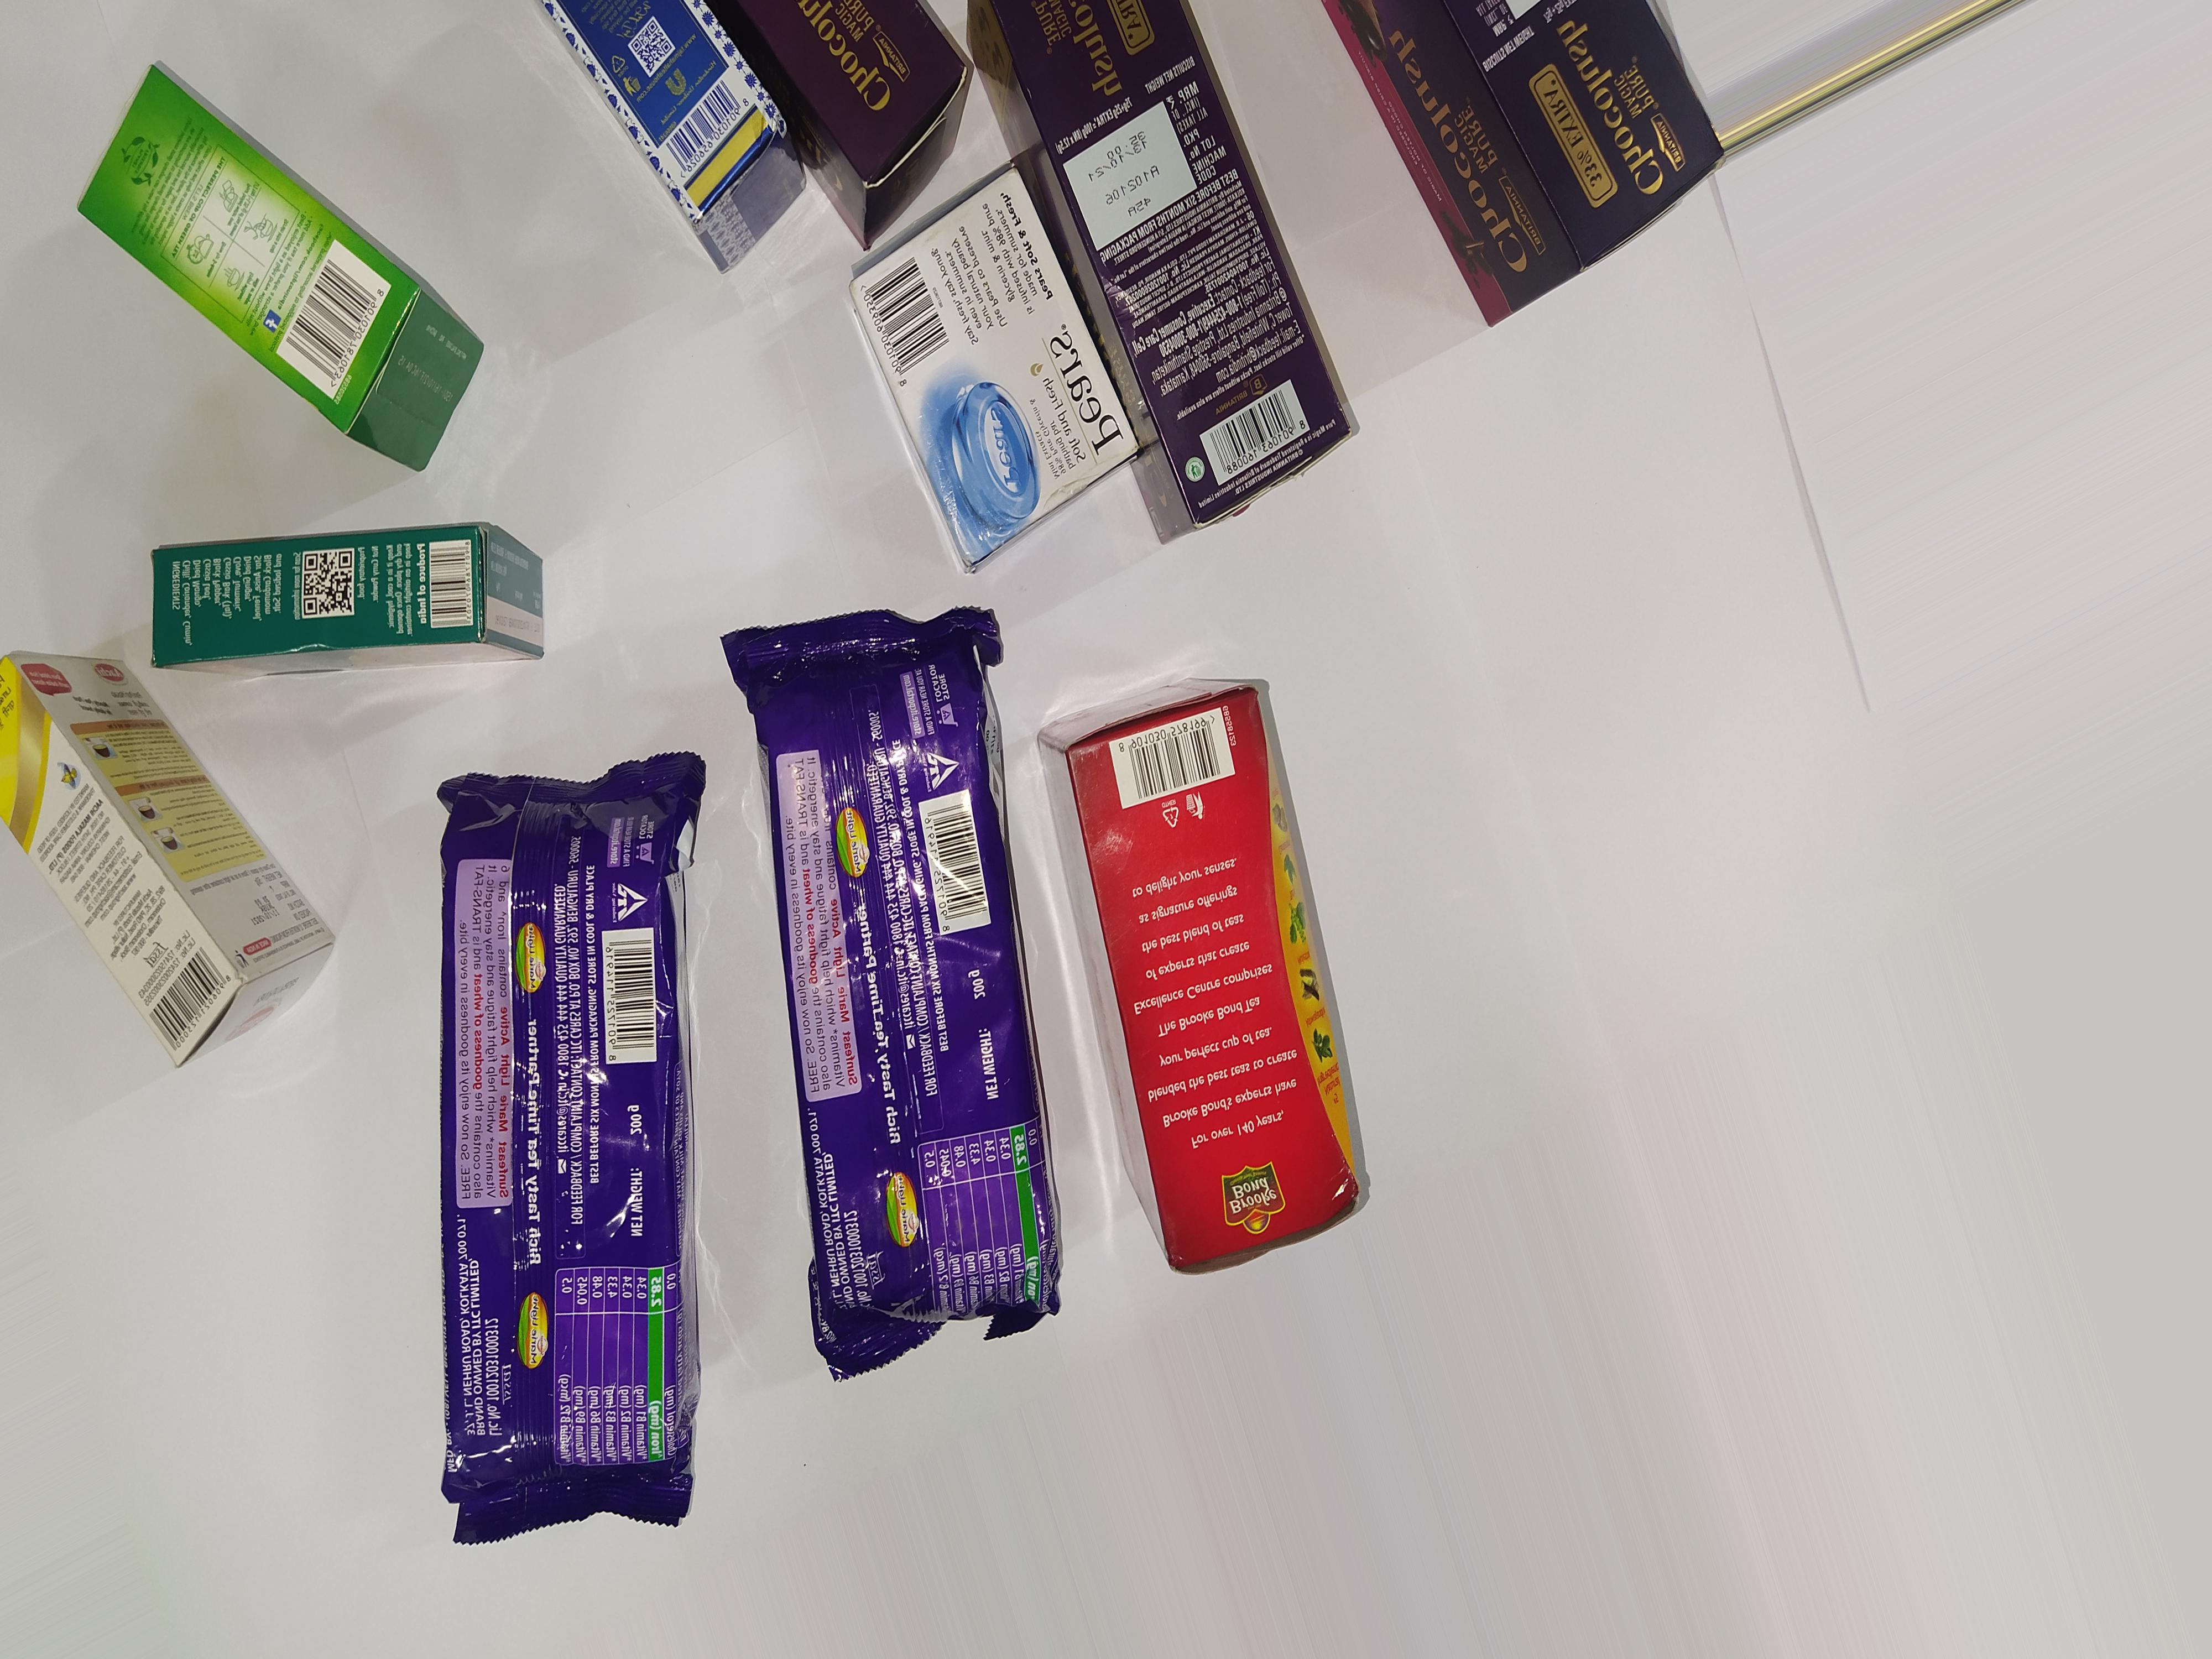Bar_code: (1104, 690, 1251, 816), (906, 786, 1015, 948), (279, 246, 390, 403), (850, 254, 961, 383), (1197, 378, 1324, 490), (127, 943, 244, 1061), (646, 77, 761, 190), (592, 922, 671, 1077), (425, 530, 481, 643)
Item: (718, 599, 1118, 1389), (397, 741, 770, 1568), (1052, 650, 1468, 1321), (961, 0, 1383, 563), (64, 54, 516, 509), (1296, 5, 1759, 396), (0, 653, 362, 1100), (845, 181, 1162, 575), (512, 0, 817, 281), (723, 0, 984, 221), (134, 526, 561, 660)
QR_code: (289, 540, 366, 627), (632, 12, 683, 80)
